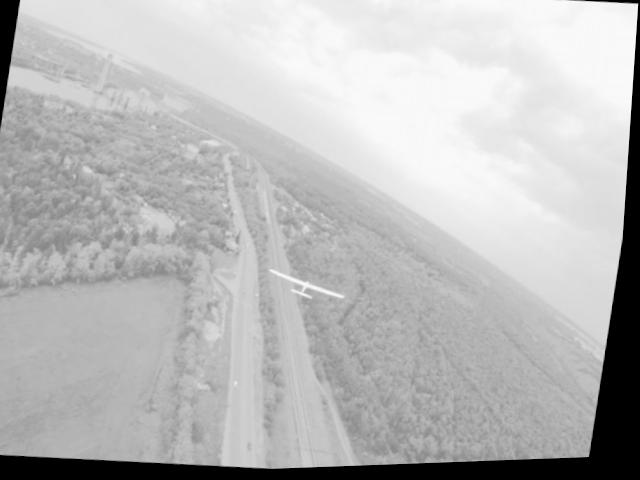hedef: (257, 260, 360, 324)
